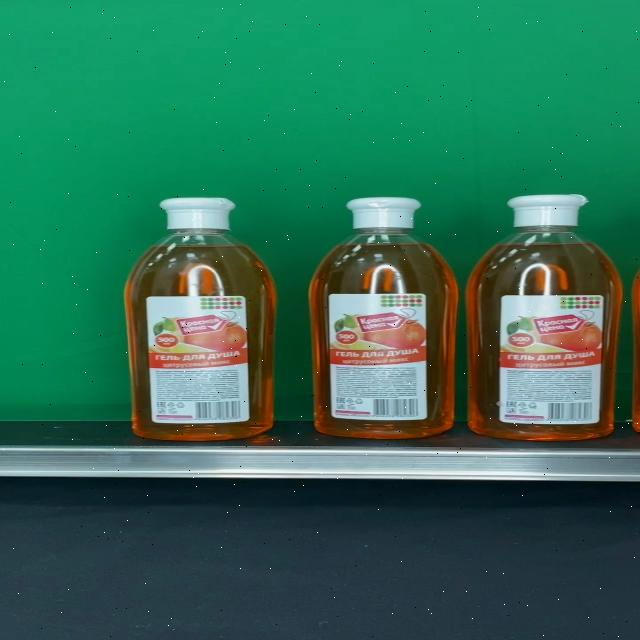Bottle: (467, 194, 622, 440), (126, 198, 277, 440), (310, 196, 458, 440)
Cap: (506, 194, 588, 228), (344, 197, 421, 230), (159, 198, 236, 230)
